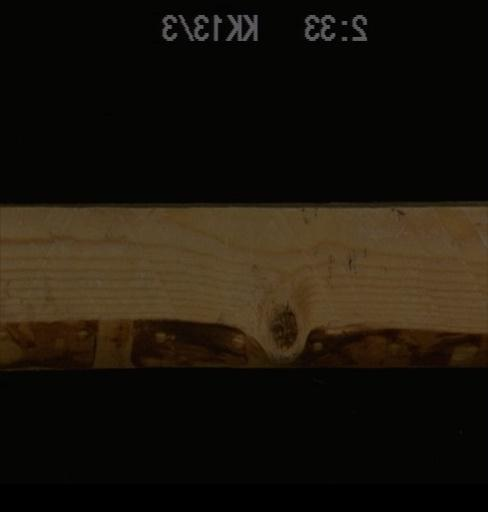sound_knot: (260, 304, 299, 347)
wave: (0, 313, 243, 367), (287, 313, 485, 370)
